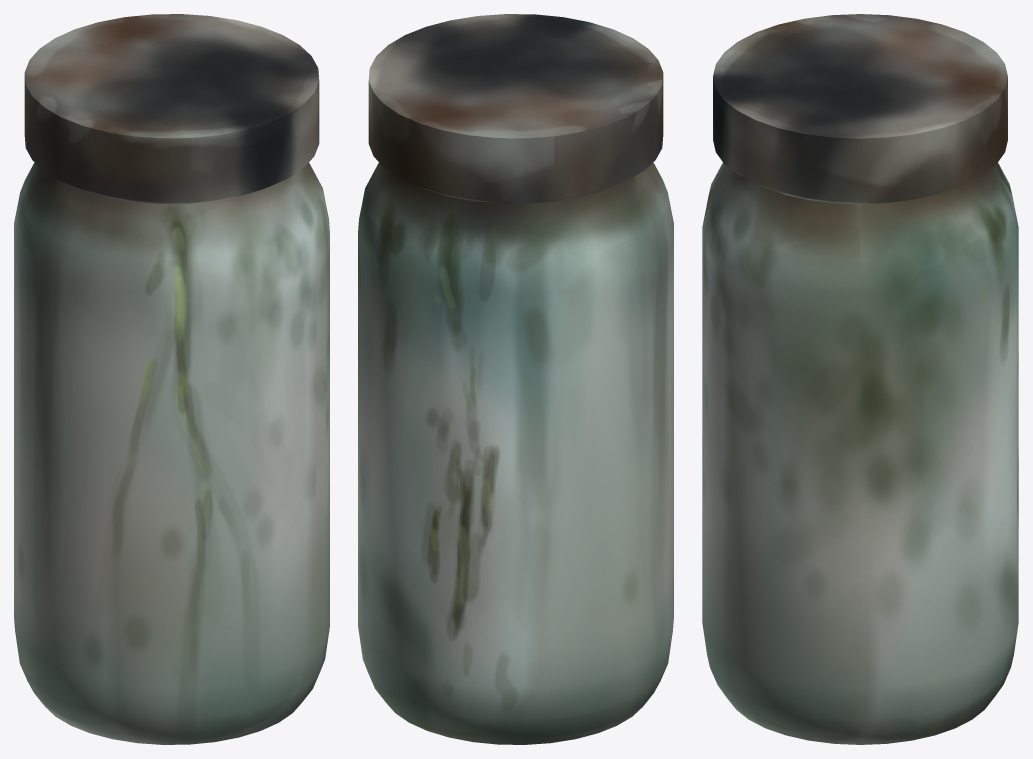
File: Purkki2.fbx
3 renders of one model, left to right at view 1: azimuth 30°, elevation 25°; view 2: azimuth 150°, elevation 25°; view 3: azimuth 270°, elevation 25°, orthographic.
Parts seen in each view (by area): view 1: Cylinder; view 2: Cylinder; view 3: Cylinder.
Boxes of the visible parts, x1,y1,x2,y2 form: Cylinder: (14,14,329,744); Cylinder: (358,14,673,744); Cylinder: (702,14,1018,744).
Size of the model in its own units: 30 by 63.99 by 30.
